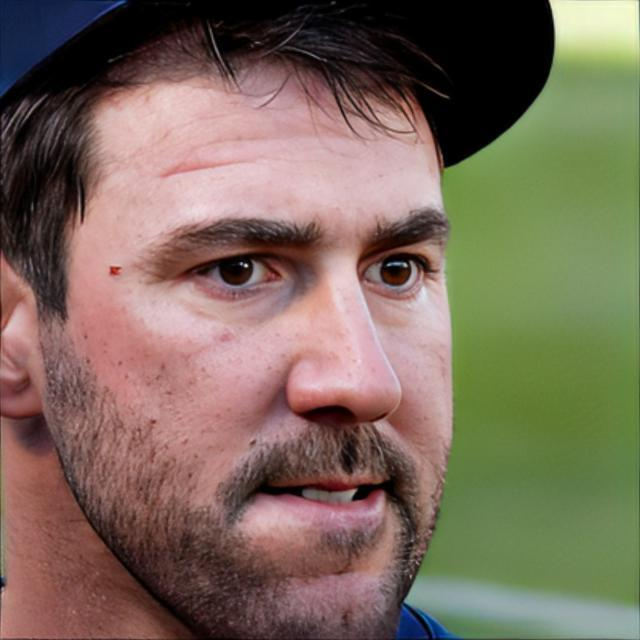anger: (52, 57, 454, 624)
